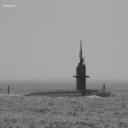submarine: (9, 41, 114, 99)
